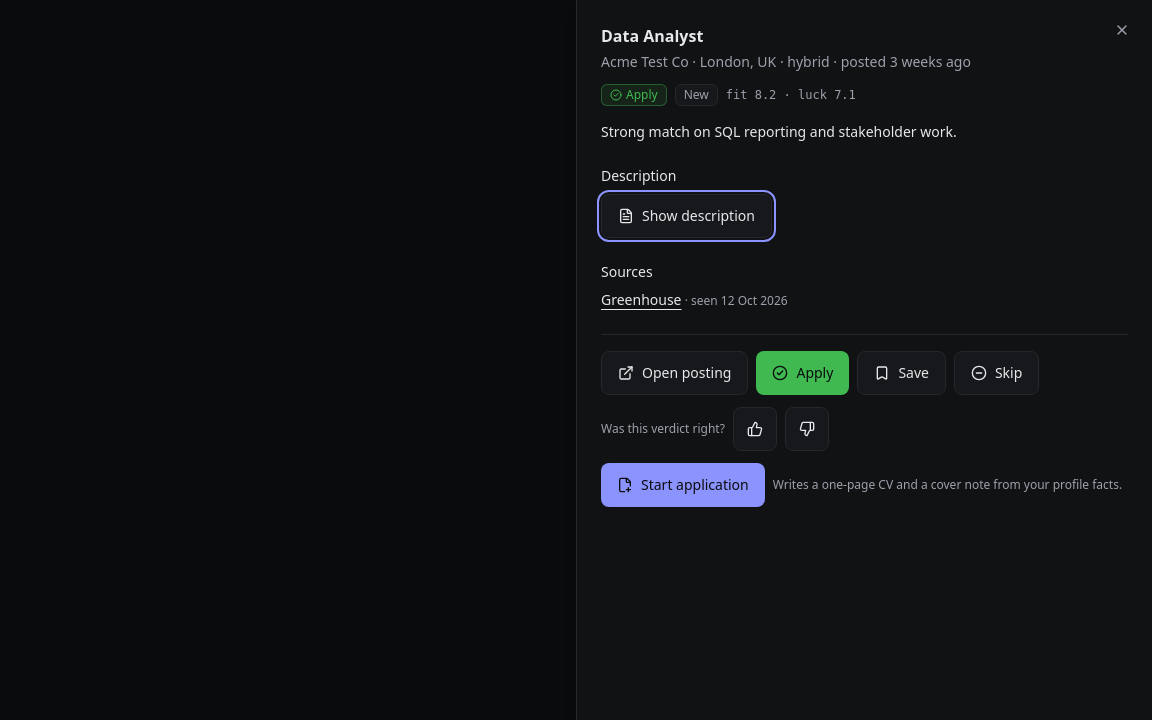
Scenario: JobDetail › Start application › starts an application and says what happens next
Click the button "Start application" at (683, 485), box [601,463,765,507]
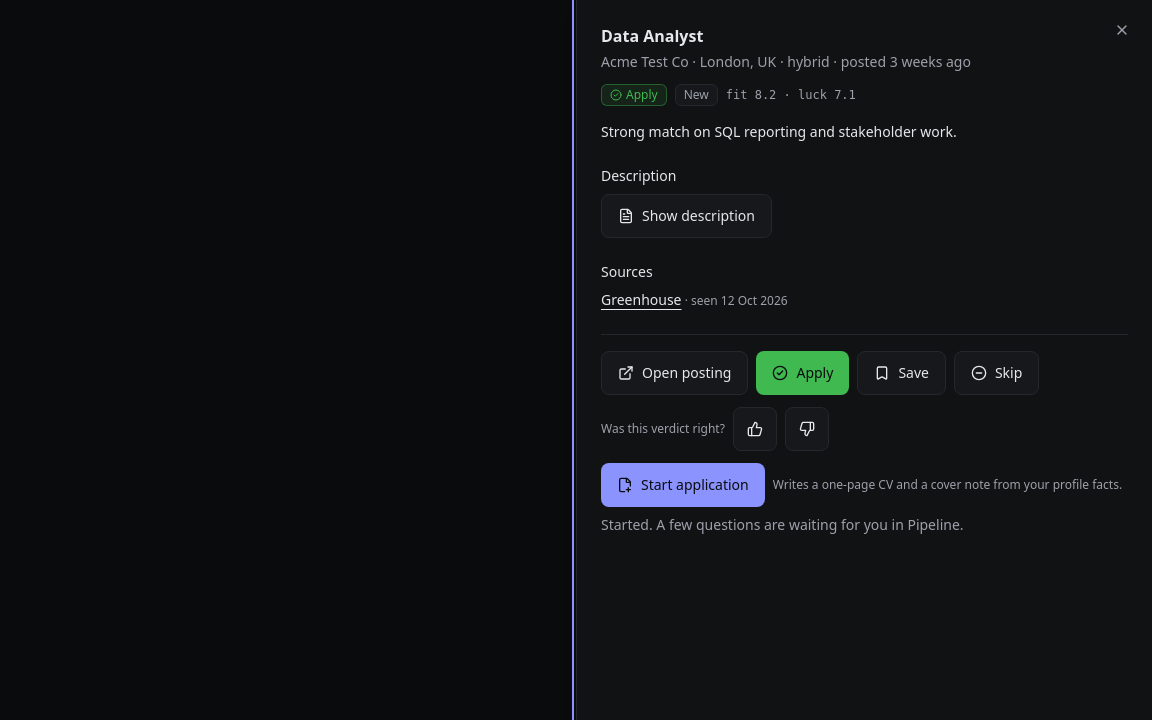
expect the text "Started. A few questions are waiting for you in Pipeline." is shown: met, box [601,515,964,534]
